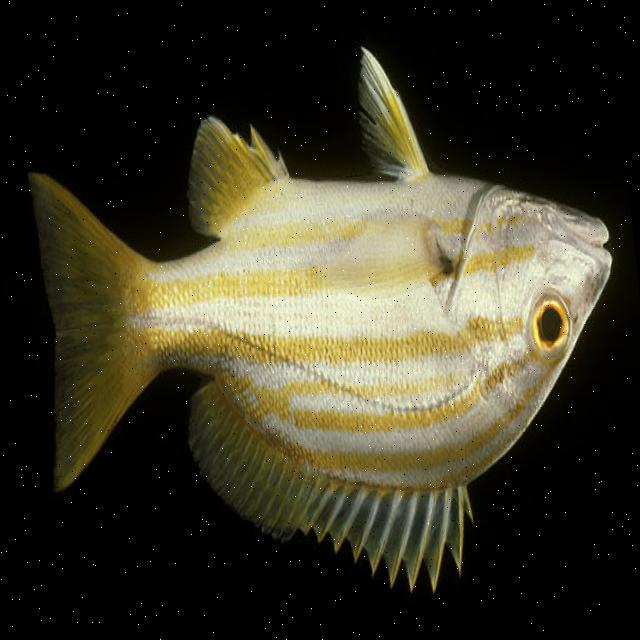ikan: (9, 20, 640, 634)
